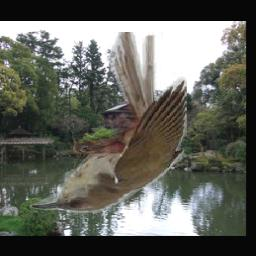Cuckoo: (29, 32, 186, 213)
